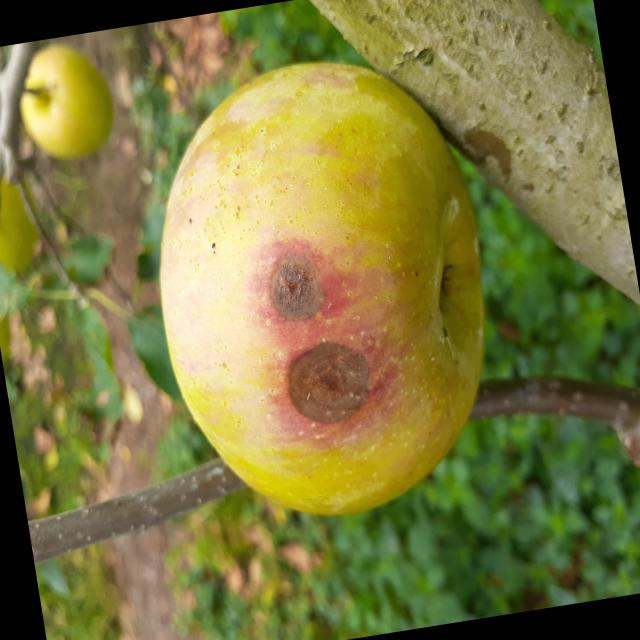rotten: (118, 26, 531, 548)
